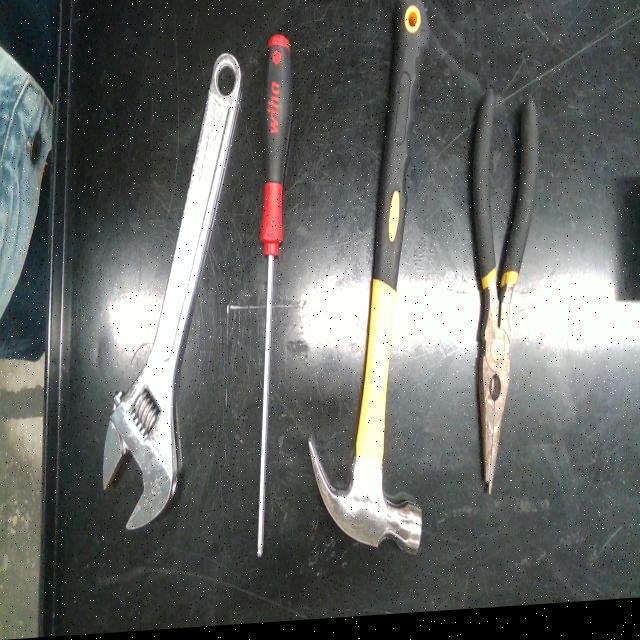Screwdriver: (258, 39, 292, 559)
